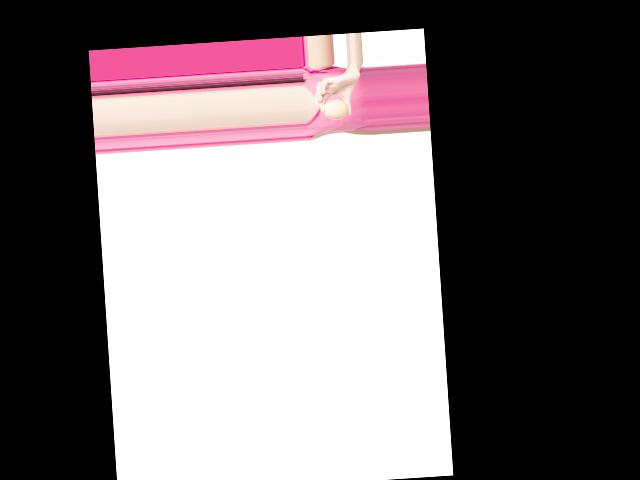egg: (322, 98, 349, 119)
